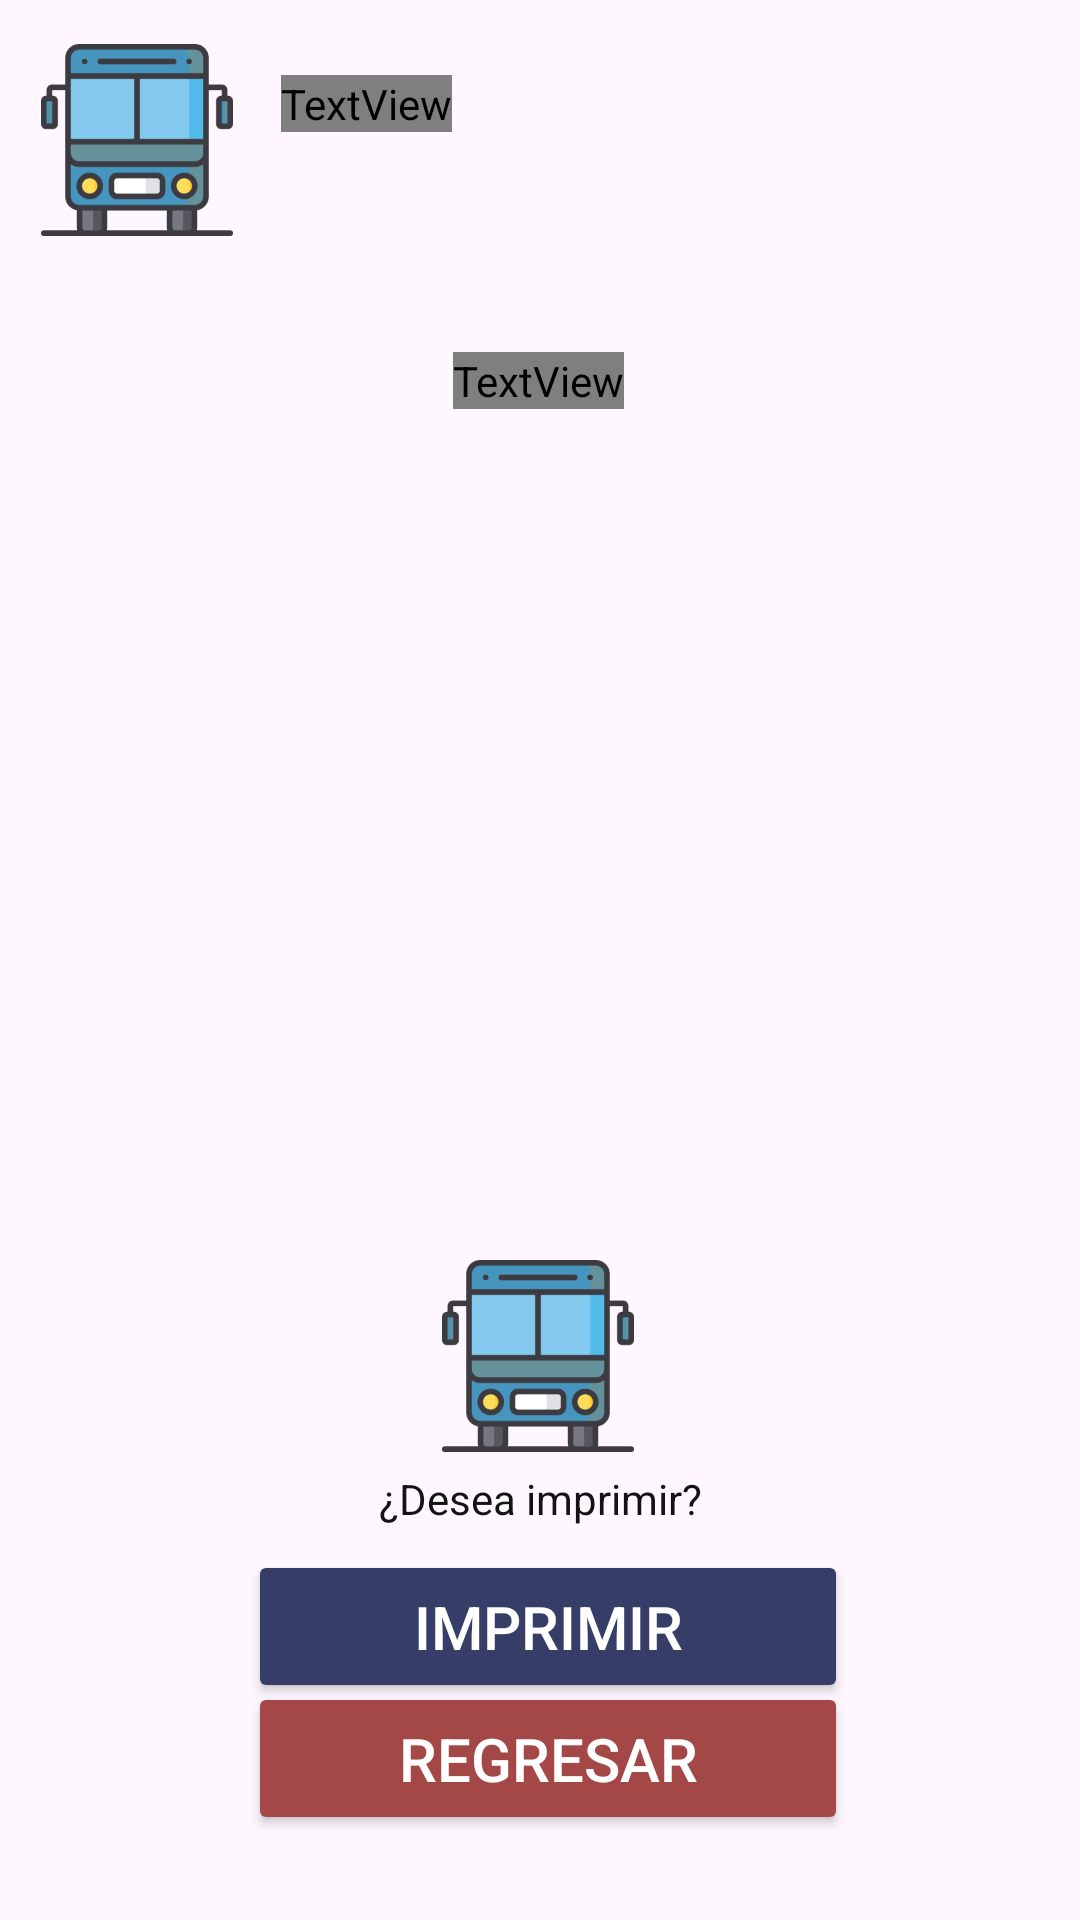

Locate icon controls on the screen. Image size 1080*1920, boxes as (x1, y1, x2, y2).
transporte publico: (41, 44, 233, 236), (442, 1260, 634, 1452)
